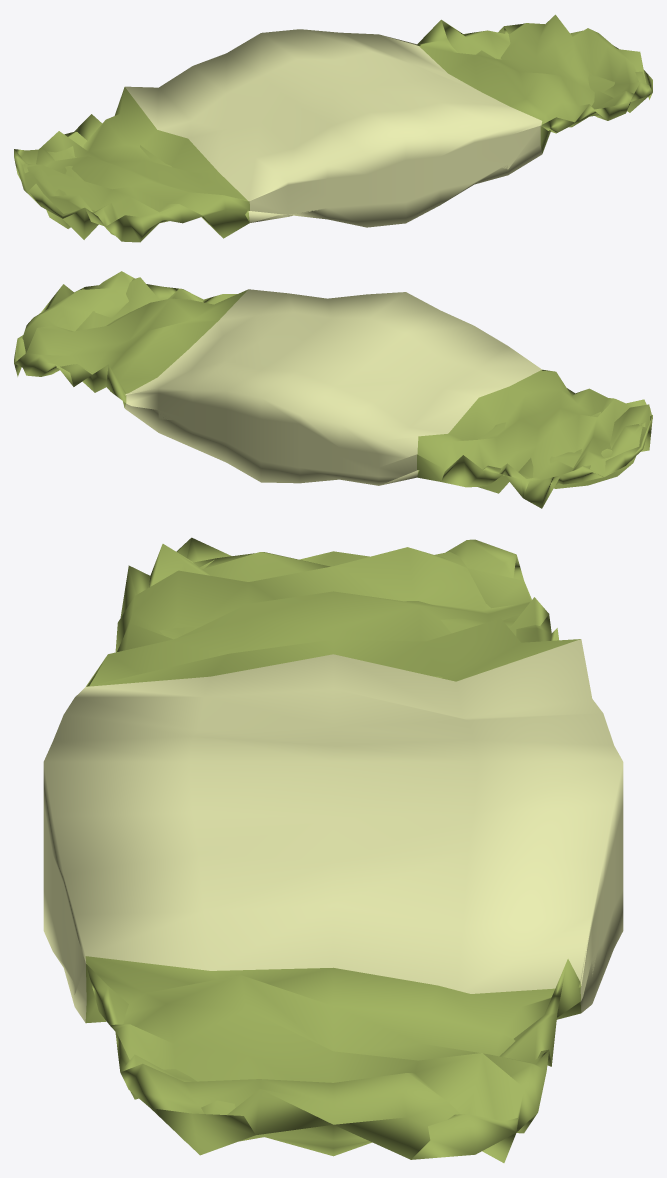
File: Cabbage.fbx
3 views of the same model, one above another, from view 1: azimuth 30°, elevation 25°; view 2: azimuth 150°, elevation 25°; view 3: azimuth 270°, elevation 25° (orthographic). The views are drawn at different scales.
Visible parts, largest first — view 1: Cabbage; view 2: Cabbage; view 3: Cabbage.
Part boxes in pixels (x1,y1,x2,y2): Cabbage: [14, 14, 652, 242]; Cabbage: [14, 271, 652, 508]; Cabbage: [43, 537, 623, 1162].
Size of the model in its own units: 93.75 by 12.93 by 40.24.
